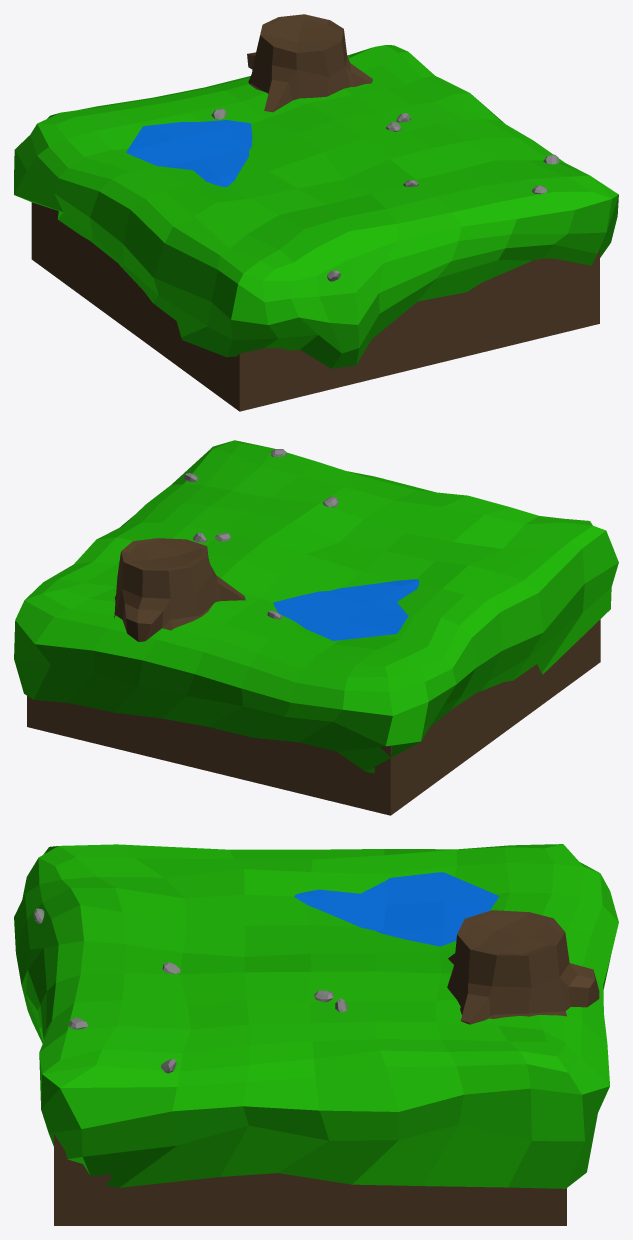
The model's file is grassBigWaterStump.fbx.
The picture shows the model from 3 angles, top to bottom: view 1: azimuth 30°, elevation 25°; view 2: azimuth 150°, elevation 25°; view 3: azimuth 270°, elevation 25°; orthographic projection. The views are drawn at different scales.
Visible parts, largest first — view 1: 3x3 grass.003; view 2: 3x3 grass.003; view 3: 3x3 grass.003.
Part boxes in pixels (<box>): 3x3 grass.003: <box>14,14,618,411</box>; 3x3 grass.003: <box>14,440,618,815</box>; 3x3 grass.003: <box>14,844,618,1225</box>.
Bounding box in the file's own units: 344 × 146 × 354.
